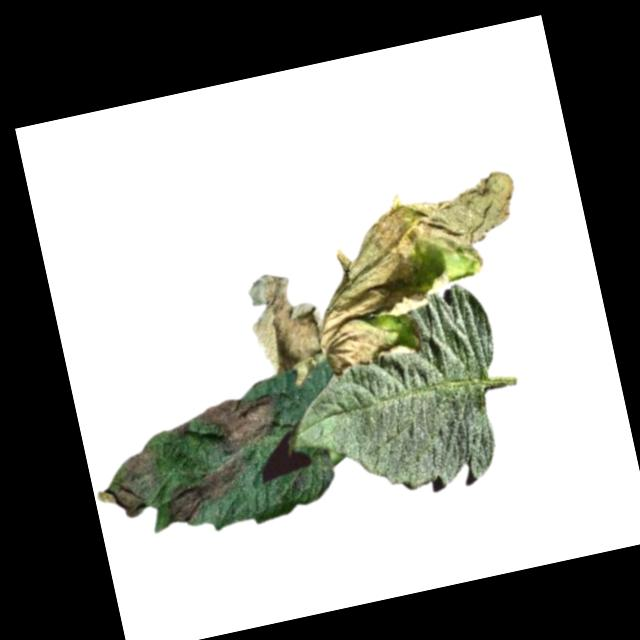Late_blight: (296, 164, 546, 376), (240, 264, 334, 393), (157, 450, 258, 529), (89, 441, 173, 525), (198, 389, 287, 459), (171, 421, 195, 441)
healthy: (268, 278, 522, 517)
